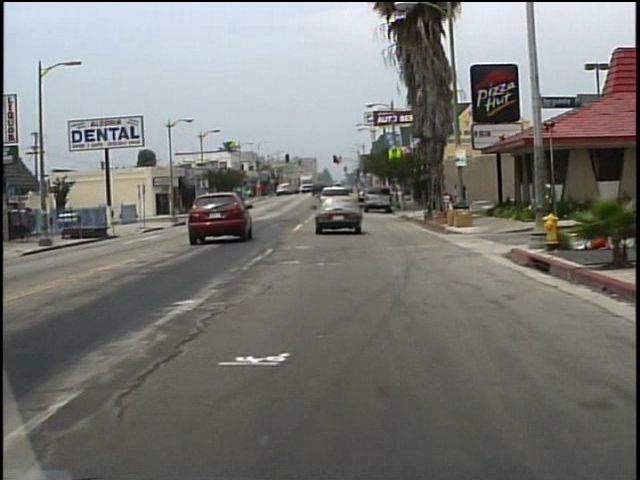person: (458, 182, 467, 210), (452, 185, 460, 208)
